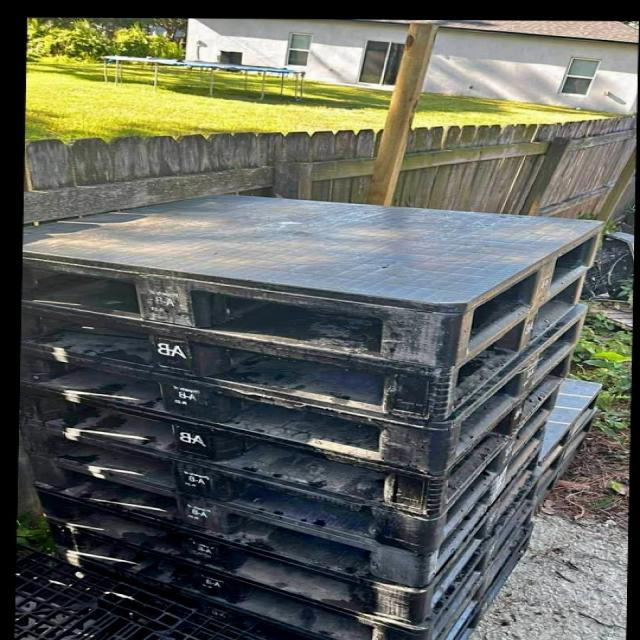non-igps: (0, 187, 622, 375), (14, 298, 608, 485), (11, 250, 600, 436), (0, 368, 575, 527), (27, 468, 550, 628), (6, 411, 564, 560), (36, 479, 551, 640), (22, 440, 553, 596), (49, 520, 557, 640), (3, 540, 286, 640), (514, 370, 606, 481), (524, 402, 606, 520)
